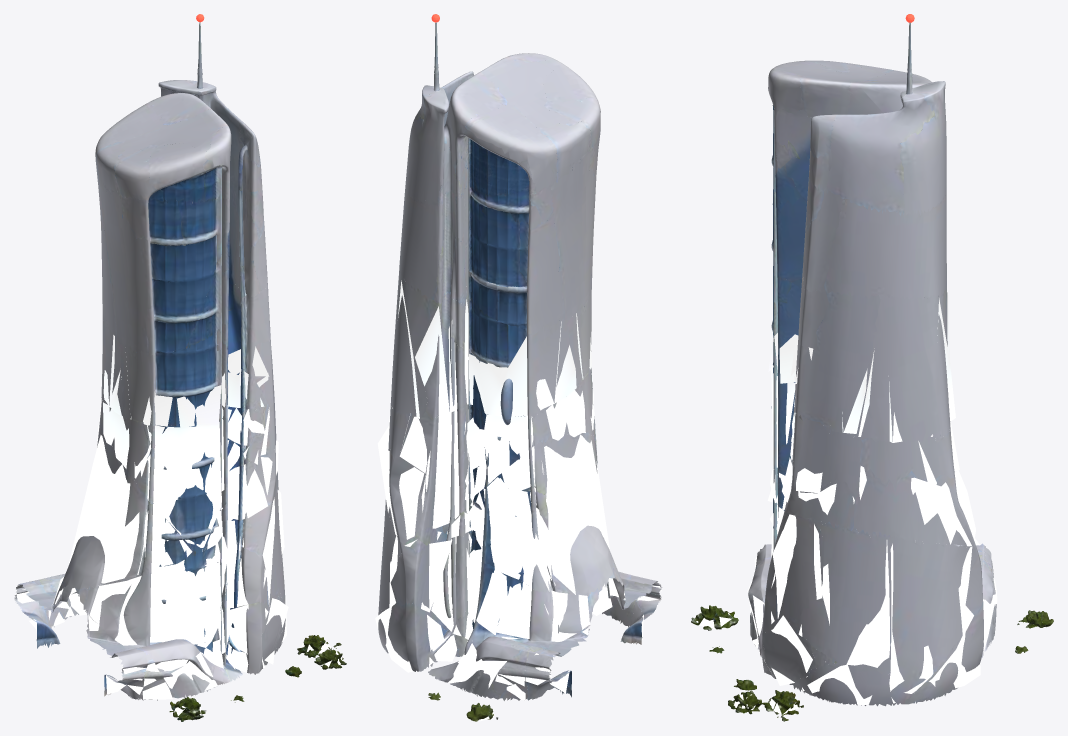
The model's file is skyspire2.glb.
The picture shows the model from 3 angles, left to right: view 1: azimuth 30°, elevation 25°; view 2: azimuth 150°, elevation 25°; view 3: azimuth 270°, elevation 25°; orthographic projection. The views are drawn at different scales.
Parts seen in each view (by area): view 1: Body, Accent; view 2: Body, Accent; view 3: Body, Accent.
Boxes of the visible parts, bbox=[...] form: Body: bbox=[14, 22, 346, 721]; Accent: bbox=[16, 335, 342, 715]; Body: bbox=[378, 22, 662, 721]; Accent: bbox=[375, 280, 661, 721]; Body: bbox=[691, 22, 1053, 721]; Accent: bbox=[696, 292, 997, 714].
Bounding box in the file's own units: 38.76 × 96.2 × 47.49.
Materials: 3 (1 with a texture image).
